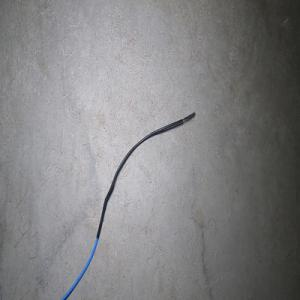Wire: (60, 110, 196, 300)
